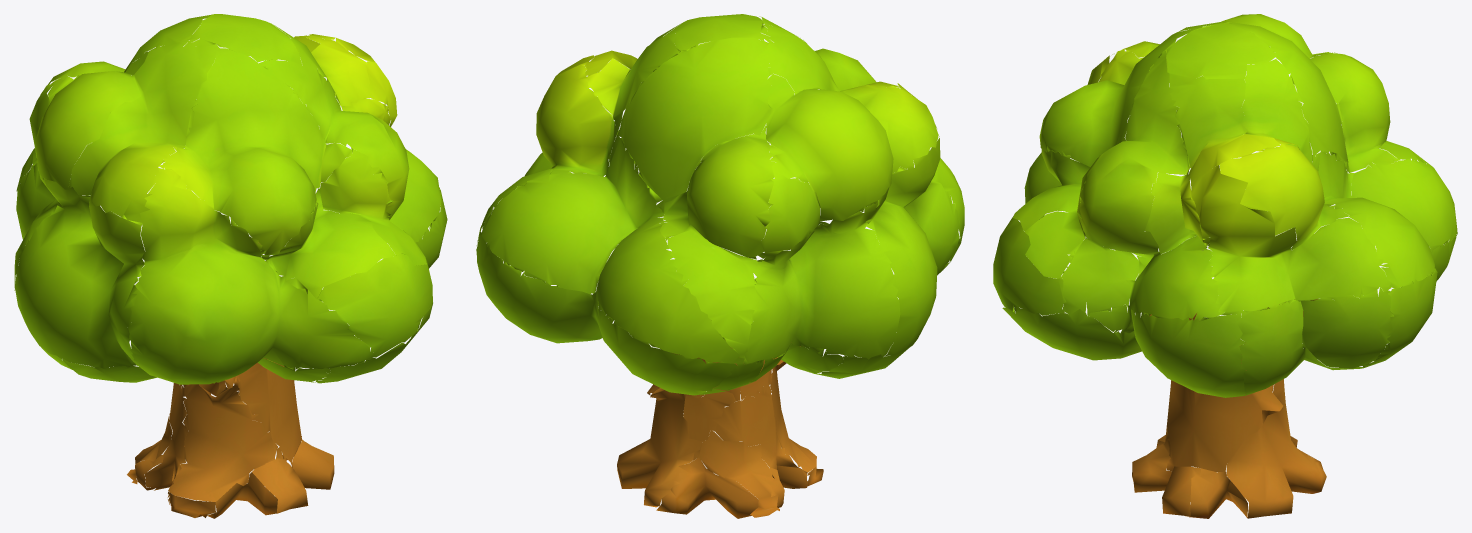
File: baum_gruen_4.glb
3 renders of one model, left to right at view 1: azimuth 30°, elevation 25°; view 2: azimuth 150°, elevation 25°; view 3: azimuth 270°, elevation 25°, orthographic. The views are drawn at different scales.
Visible parts, largest first — view 1: tripo_node_1ee7799d-39be-4914-a1fd-92adc406ede3; view 2: tripo_node_1ee7799d-39be-4914-a1fd-92adc406ede3; view 3: tripo_node_1ee7799d-39be-4914-a1fd-92adc406ede3.
Boxes of the visible parts, box(x1,y1,x2,y2) form: tripo_node_1ee7799d-39be-4914-a1fd-92adc406ede3: box(14, 14, 447, 518); tripo_node_1ee7799d-39be-4914-a1fd-92adc406ede3: box(476, 14, 964, 518); tripo_node_1ee7799d-39be-4914-a1fd-92adc406ede3: box(993, 14, 1457, 518).
Bounding box in the file's own units: 0.9202 × 1 × 0.9496.
Materials: 1 (1 with a texture image).
